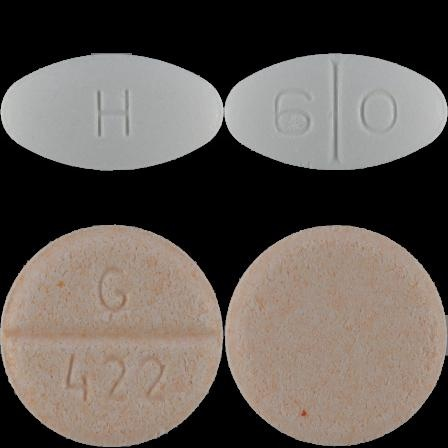68151-2949: (0, 0, 224, 224)
